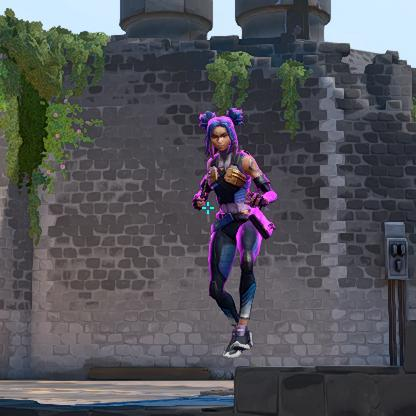enemyBody: (212, 163, 250, 208)
enemyHead: (210, 121, 232, 153)
